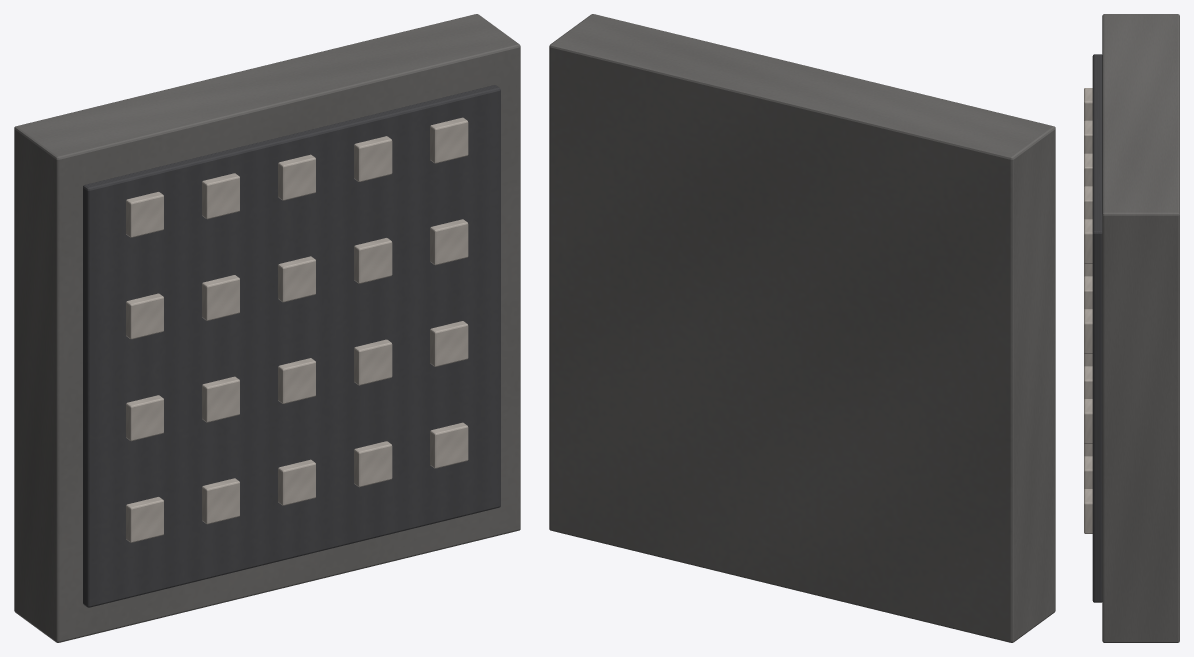
The model's file is cable_connection_panel.glb.
3 renders of one model, left to right at view 1: azimuth 30°, elevation 25°; view 2: azimuth 150°, elevation 25°; view 3: azimuth 270°, elevation 25°, orthographic. The views are drawn at different scales.
Parts seen in each view (by area): view 1: face.006, housing.002, MESH_MAT_Painted_Ivory.169; view 2: housing.002; view 3: housing.002, face.006, MESH_MAT_Painted_Ivory.169.
Part boxes in pixels (bbox=[...]): face.006: bbox=[83, 85, 500, 607]; housing.002: bbox=[14, 14, 520, 642]; MESH_MAT_Painted_Ivory.169: bbox=[126, 117, 468, 542]; housing.002: bbox=[549, 14, 1055, 642]; housing.002: bbox=[1102, 14, 1179, 642]; face.006: bbox=[1092, 54, 1102, 602]; MESH_MAT_Painted_Ivory.169: bbox=[1084, 88, 1092, 533].
Bounding box in the file's own units: 1.1 × 1.1 × 0.2225.
3 materials, 3 textured.
